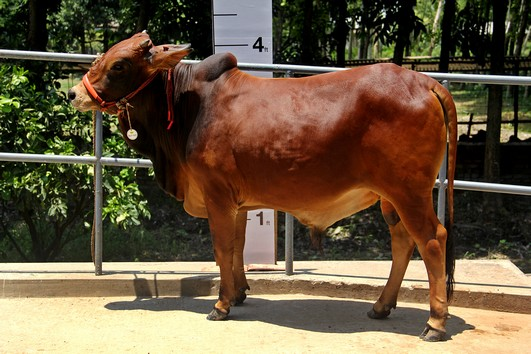cow: (60, 26, 465, 341)
